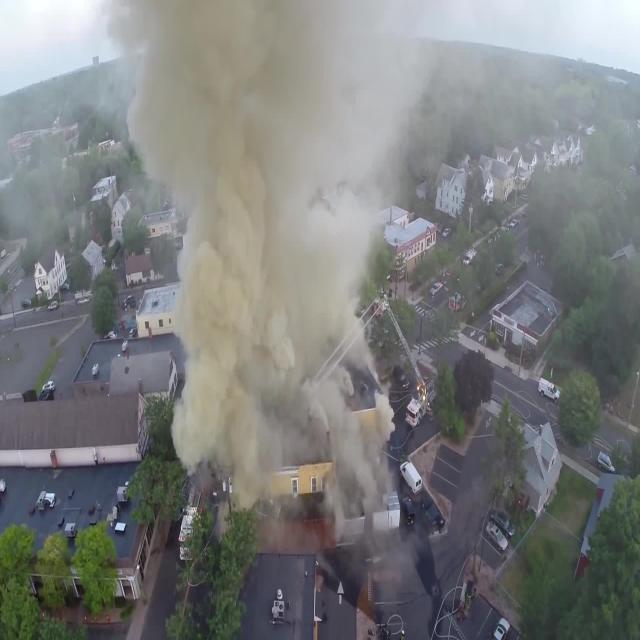Smoke: (162, 0, 366, 465)
